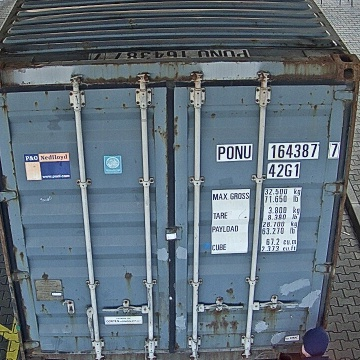serial_id: (217, 143, 338, 159)
